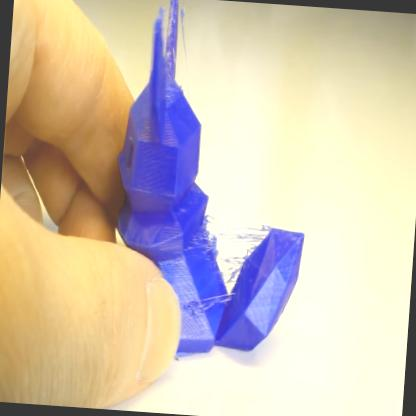fail: (202, 214, 266, 269)
